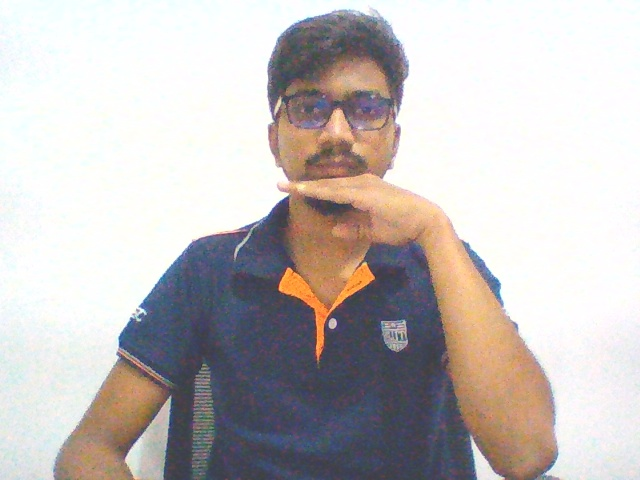elephant: (266, 165, 458, 252)
